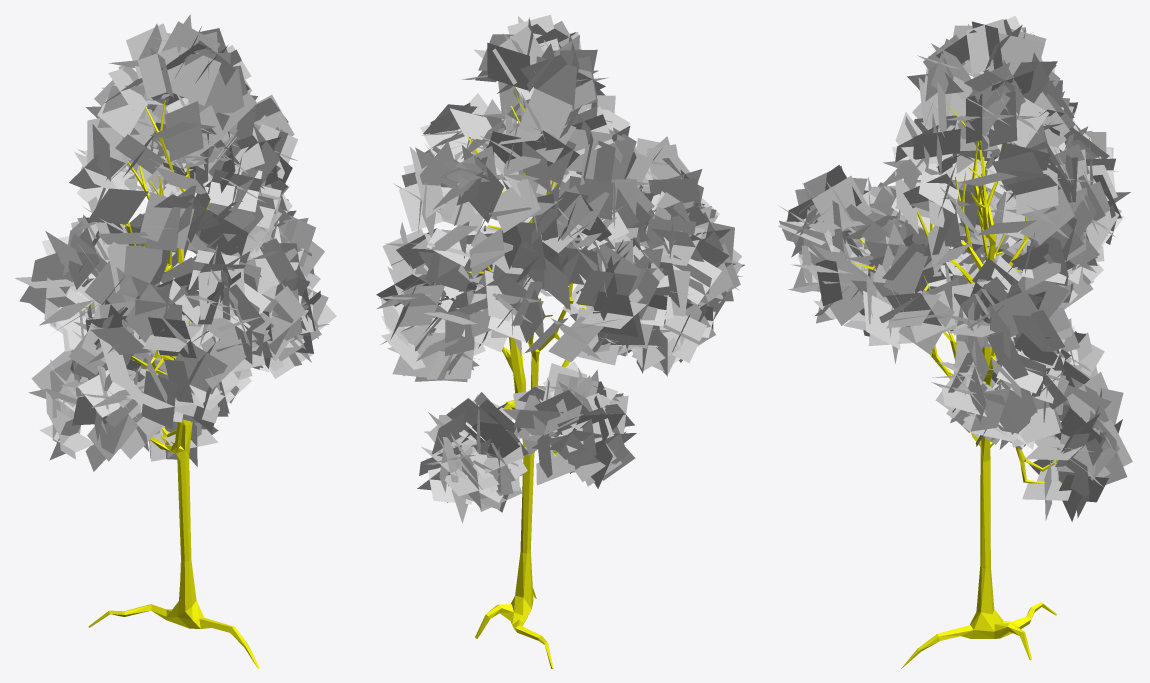
Rendered from tree_aspen.glb.
3 renders of one model, left to right at view 1: azimuth 30°, elevation 25°; view 2: azimuth 150°, elevation 25°; view 3: azimuth 270°, elevation 25°, orthographic. The views are drawn at different scales.
Visible parts, largest first — view 1: Aspen_LOD0, SM_Aspen_LOD0; view 2: Aspen_LOD0, SM_Aspen_LOD0; view 3: Aspen_LOD0, SM_Aspen_LOD0.
Part boxes in pixels (left/top/right/bottom): Aspen_LOD0: left=14, top=14, right=336, bottom=471; SM_Aspen_LOD0: left=84, top=100, right=259, bottom=668; Aspen_LOD0: left=376, top=14, right=744, bottom=523; SM_Aspen_LOD0: left=466, top=86, right=592, bottom=668; Aspen_LOD0: left=778, top=16, right=1132, bottom=521; SM_Aspen_LOD0: left=851, top=103, right=1062, bottom=668.
Size of the model in its own units: 6.96 by 13.87 by 7.18.
